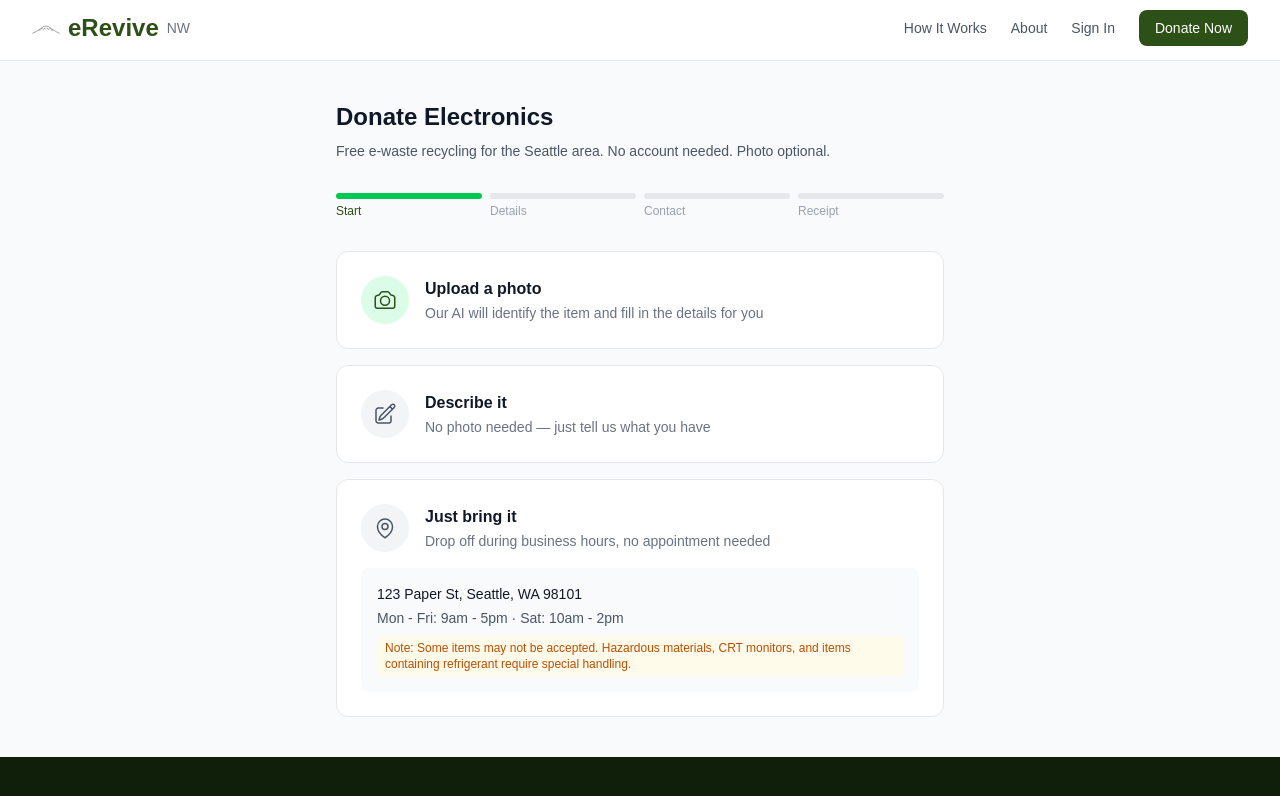
Scenario: Donate Page (/donate) › shows grouped item selection when Describe It clicked
The image size is (1280, 796).
Click the heading "Describe it": (466, 402) top-left (425, 394), bottom-right (507, 411)
(page scrolled)
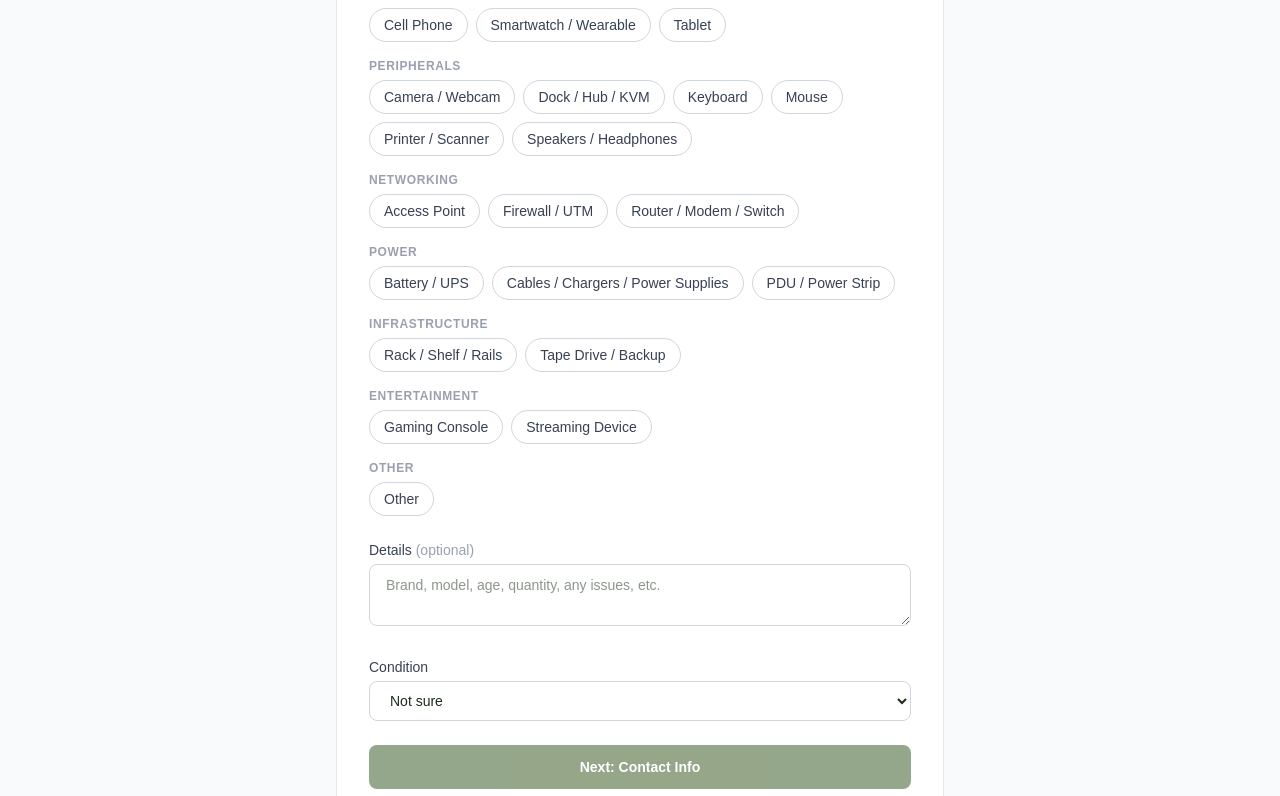
Check: the text "Peripherals" is shown, box top-left (369, 59), bottom-right (461, 73)
Check: the text "Networking" is shown, box top-left (369, 173), bottom-right (458, 187)
Check: the text "Power" is shown, box top-left (369, 245), bottom-right (417, 259)
